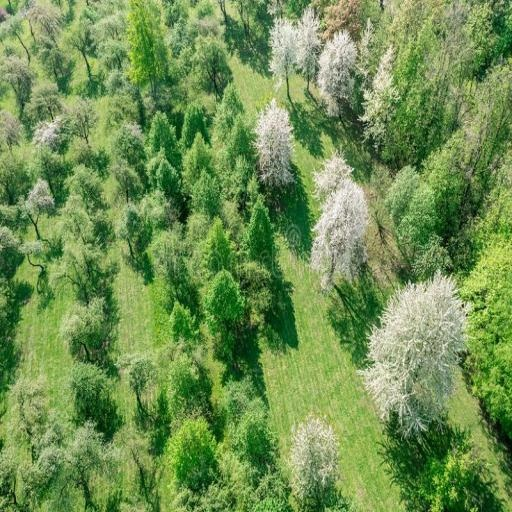tree-top: (359, 281, 460, 431), (462, 249, 512, 431), (307, 157, 365, 281), (285, 410, 342, 505), (410, 452, 487, 512), (59, 414, 114, 491), (125, 1, 172, 82), (225, 398, 277, 468), (167, 420, 218, 488), (68, 352, 116, 417), (459, 0, 511, 59), (258, 102, 298, 178), (317, 34, 357, 110), (154, 229, 199, 292), (6, 370, 45, 436), (27, 418, 66, 483), (406, 193, 448, 251), (168, 352, 210, 410), (66, 236, 104, 298), (209, 264, 242, 335), (56, 293, 98, 348), (432, 144, 467, 210), (369, 54, 398, 130), (190, 34, 234, 80), (268, 18, 298, 84), (243, 470, 288, 512), (245, 203, 278, 258), (392, 166, 424, 222), (64, 92, 102, 136), (294, 13, 324, 68), (24, 167, 54, 216), (144, 105, 176, 149), (166, 296, 194, 345), (125, 348, 159, 388), (66, 15, 96, 60), (28, 72, 59, 114), (0, 49, 31, 90), (190, 168, 218, 212), (70, 160, 100, 201), (112, 159, 142, 199), (32, 1, 62, 41), (227, 110, 253, 156), (189, 130, 217, 172), (0, 108, 28, 150), (60, 190, 85, 235), (326, 0, 358, 32), (38, 113, 62, 153), (183, 97, 210, 132), (0, 278, 21, 323), (118, 207, 144, 242), (0, 14, 26, 40)
